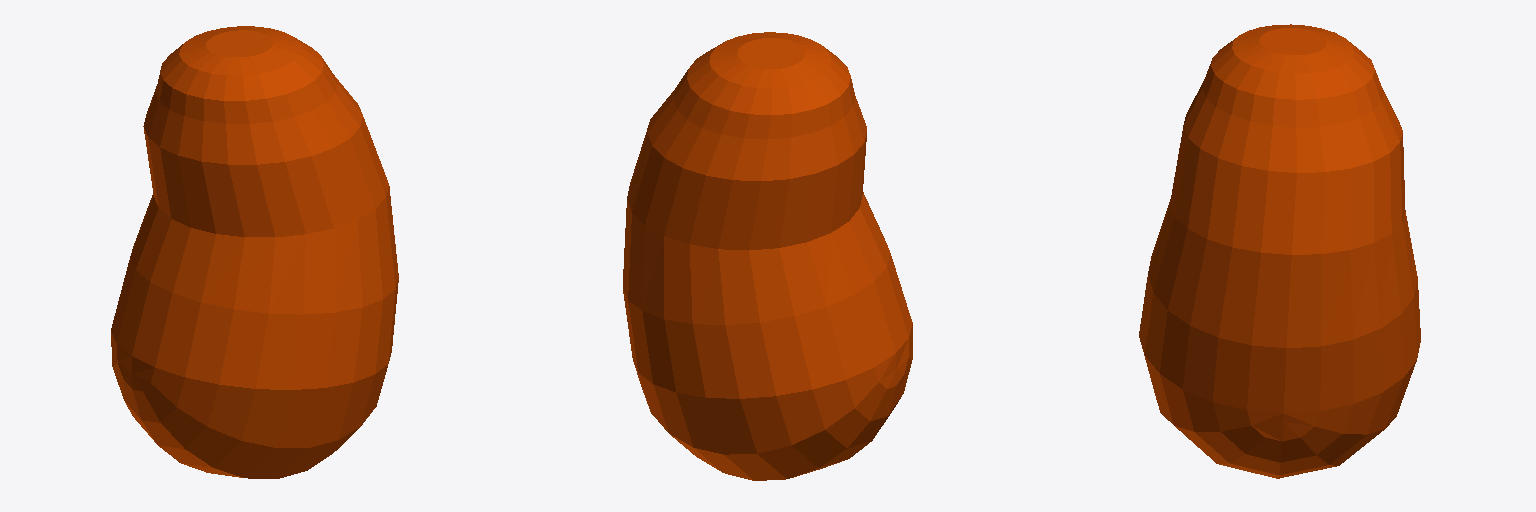
Rendered from POTATO.obj.
3 renders of one model, left to right at view 1: azimuth 30°, elevation 25°; view 2: azimuth 150°, elevation 25°; view 3: azimuth 270°, elevation 25°, orthographic.
Visible parts, largest first — view 1: Sphere.005; view 2: Sphere.005; view 3: Sphere.005.
Boxes of the visible parts, x1=… form: Sphere.005: x1=111, y1=26, x2=398, y2=478; Sphere.005: x1=623, y1=32, x2=912, y2=480; Sphere.005: x1=1139, y1=24, x2=1420, y2=478.
Size of the model in its own units: 0.5196 by 0.8314 by 0.504.